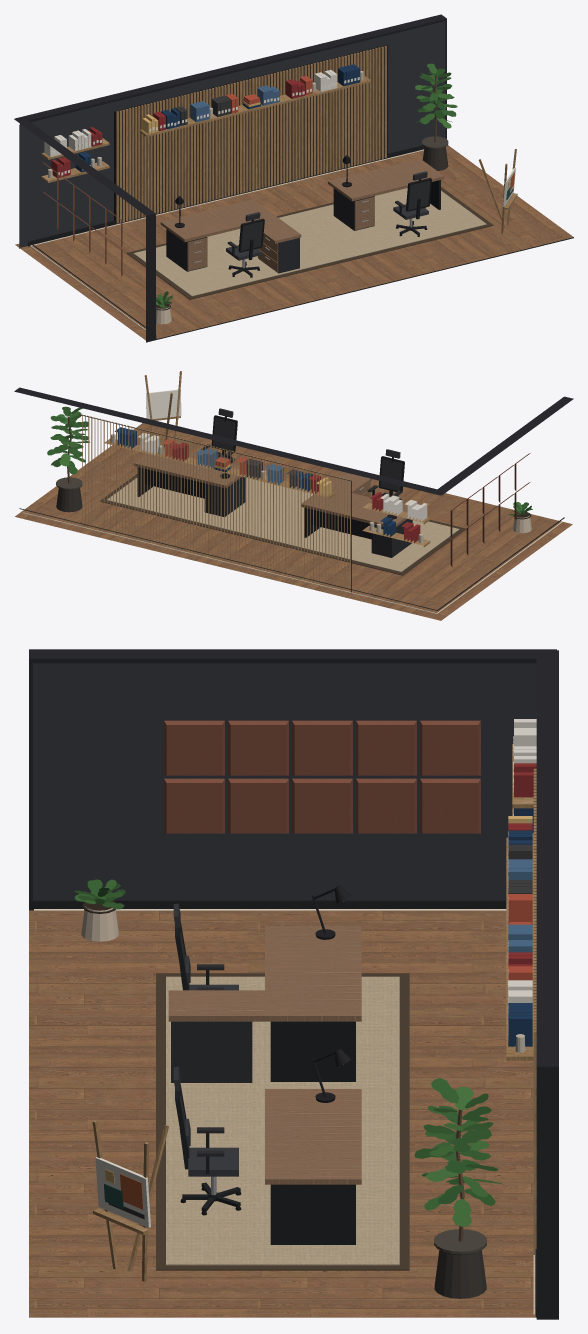
File: design-room.glb
3 views of the same model, one above another, from view 1: azimuth 30°, elevation 25°; view 2: azimuth 150°, elevation 25°; view 3: azimuth 270°, elevation 25° (orthographic). The views are drawn at different scales.
Parts seen in each view (by area): view 1: design_room, design_leds; view 2: design_room, design_leds; view 3: design_room, design_leds.
Part boxes in pixels (<box>): design_room: <box>14,14,573,342</box>; design_leds: <box>30,149,423,330</box>; design_room: <box>14,371,573,620</box>; design_leds: <box>22,512,562,613</box>; design_room: <box>29,649,558,1319</box>; design_leds: <box>34,901,534,1315</box>.
Bounding box in the file's own units: 9.72 × 2.75 × 5.22.
Materials: 9 (6 with a texture image).
